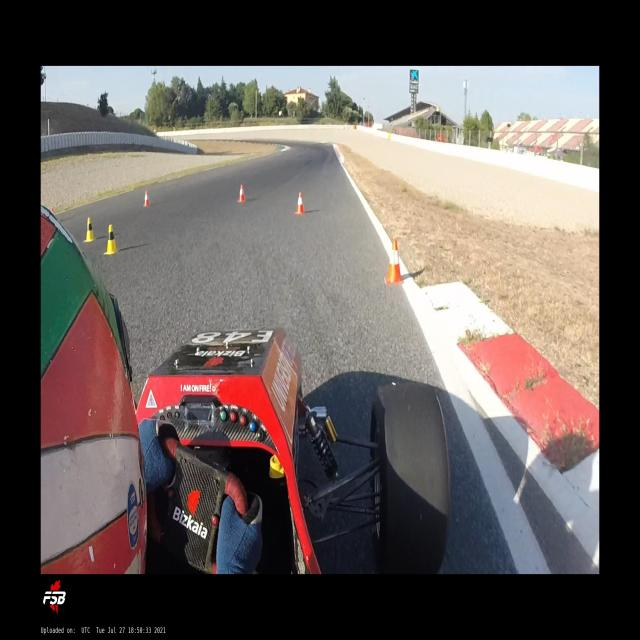orange_cone: (384, 239, 403, 284), (294, 192, 305, 214), (237, 185, 246, 202), (143, 190, 150, 207)
yellow_cone: (104, 225, 117, 254), (83, 217, 95, 242)
